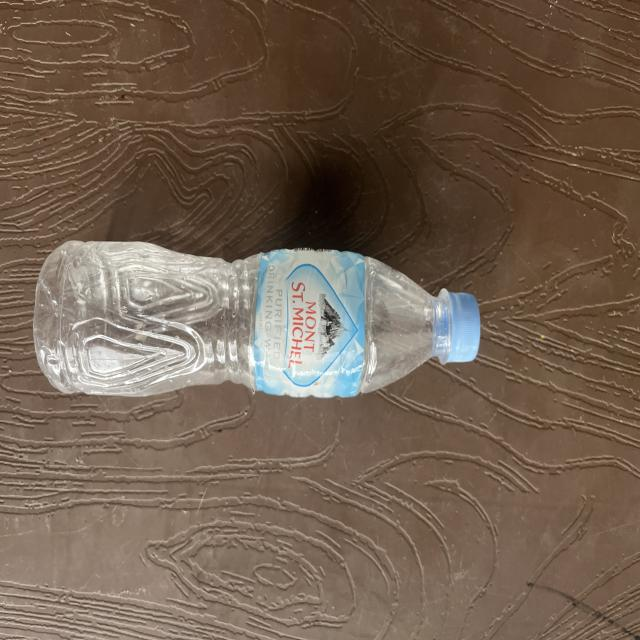REJECT: (38, 236, 444, 402)
